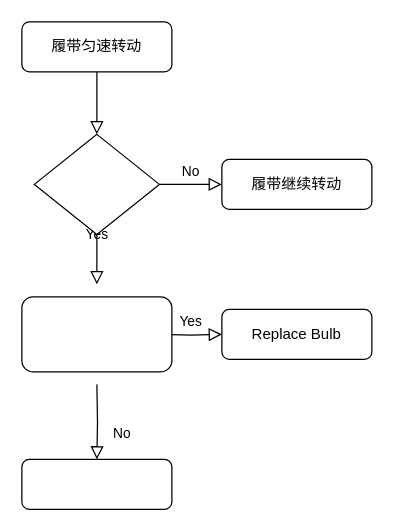
This 394x531 diagram has some shape labels left out. The centre of each missing label's shape, as x and y in pixels:
"Repair Lamp" belongs at (96,483).
"颜色识别传感器判断经过的木块是否为红色" belongs at (96,183).
